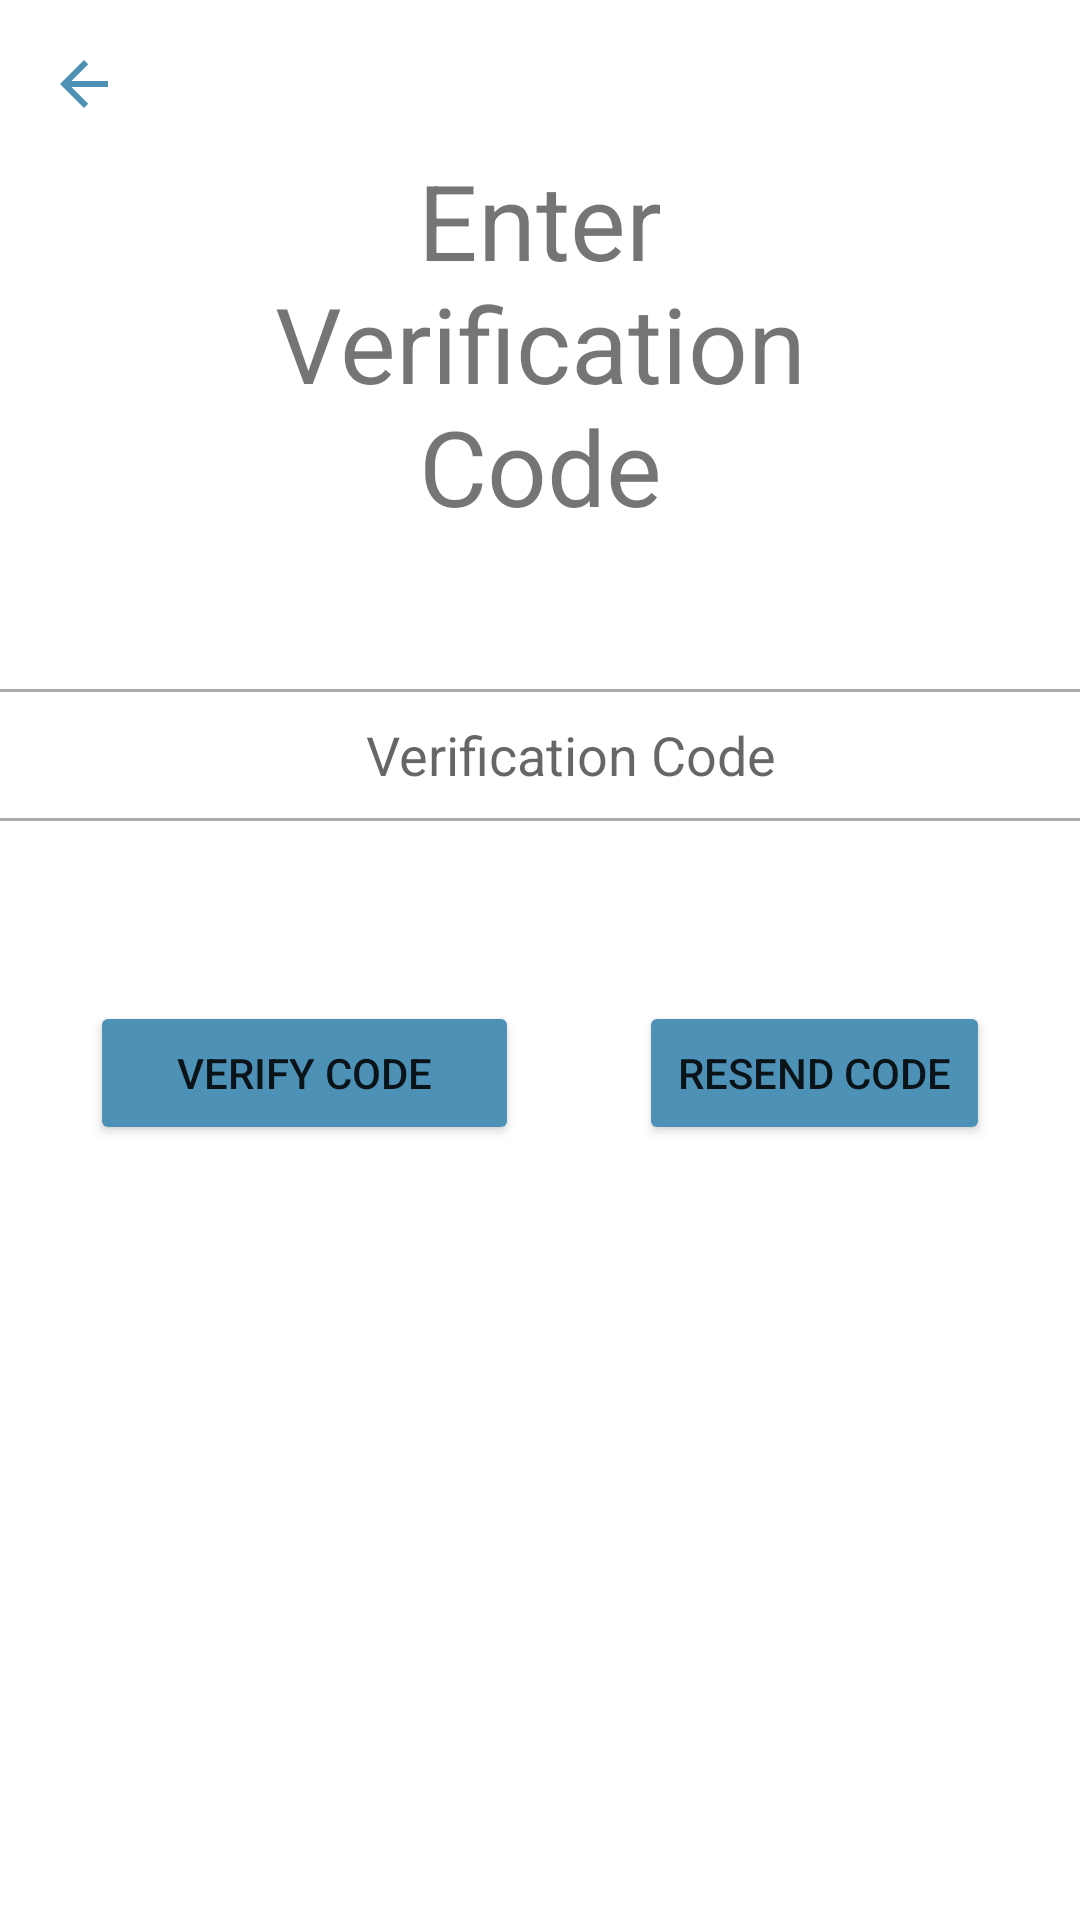

Named icons in this screenshot (1080×1920) and their centers, (x=x, y=y):
Return to previous page: (x=84, y=84)
